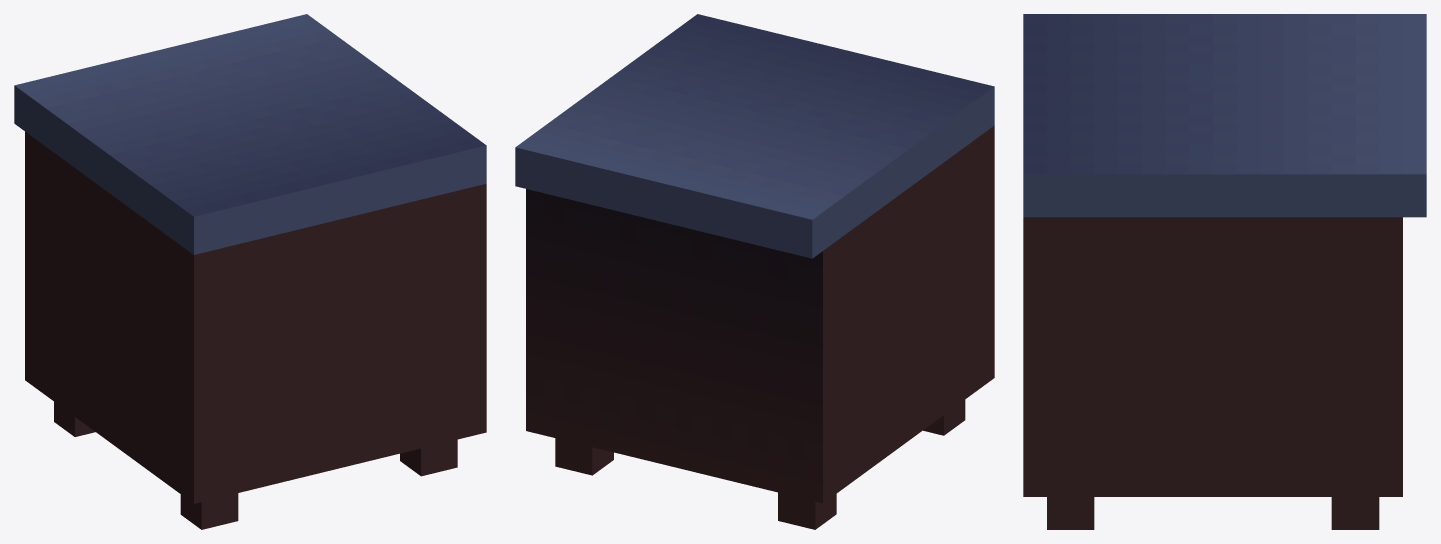
Rendered from KitchenCounter.fbx.
The picture shows the model from 3 angles, left to right: view 1: azimuth 30°, elevation 25°; view 2: azimuth 150°, elevation 25°; view 3: azimuth 270°, elevation 25°; orthographic projection. The views are drawn at different scales.
Visible parts, largest first — view 1: cube_4, cube_5, cube_3, cube_1, cube_2; view 2: cube_4, cube_5, cube_2, cube, cube_3; view 3: cube_4, cube_5, cube, cube_1.
Part boxes in pixels (box(x1,y1,x2,y2)): cube_4: box(25, 131, 486, 503); cube_5: box(14, 14, 486, 254); cube_3: box(180, 493, 238, 529); cube_1: box(400, 439, 457, 476); cube_2: box(54, 402, 95, 436); cube_4: box(526, 125, 994, 503); cube_5: box(515, 14, 994, 258); cube_2: box(778, 492, 836, 529); cube: box(555, 438, 613, 475); cube_3: box(923, 400, 965, 435); cube_4: box(1023, 217, 1402, 496); cube_5: box(1023, 14, 1426, 217); cube: box(1331, 497, 1379, 529); cube_1: box(1047, 497, 1094, 529).
Bounding box in the file's own units: 100 × 106 × 106.
Materials: 1 (1 with a texture image).
